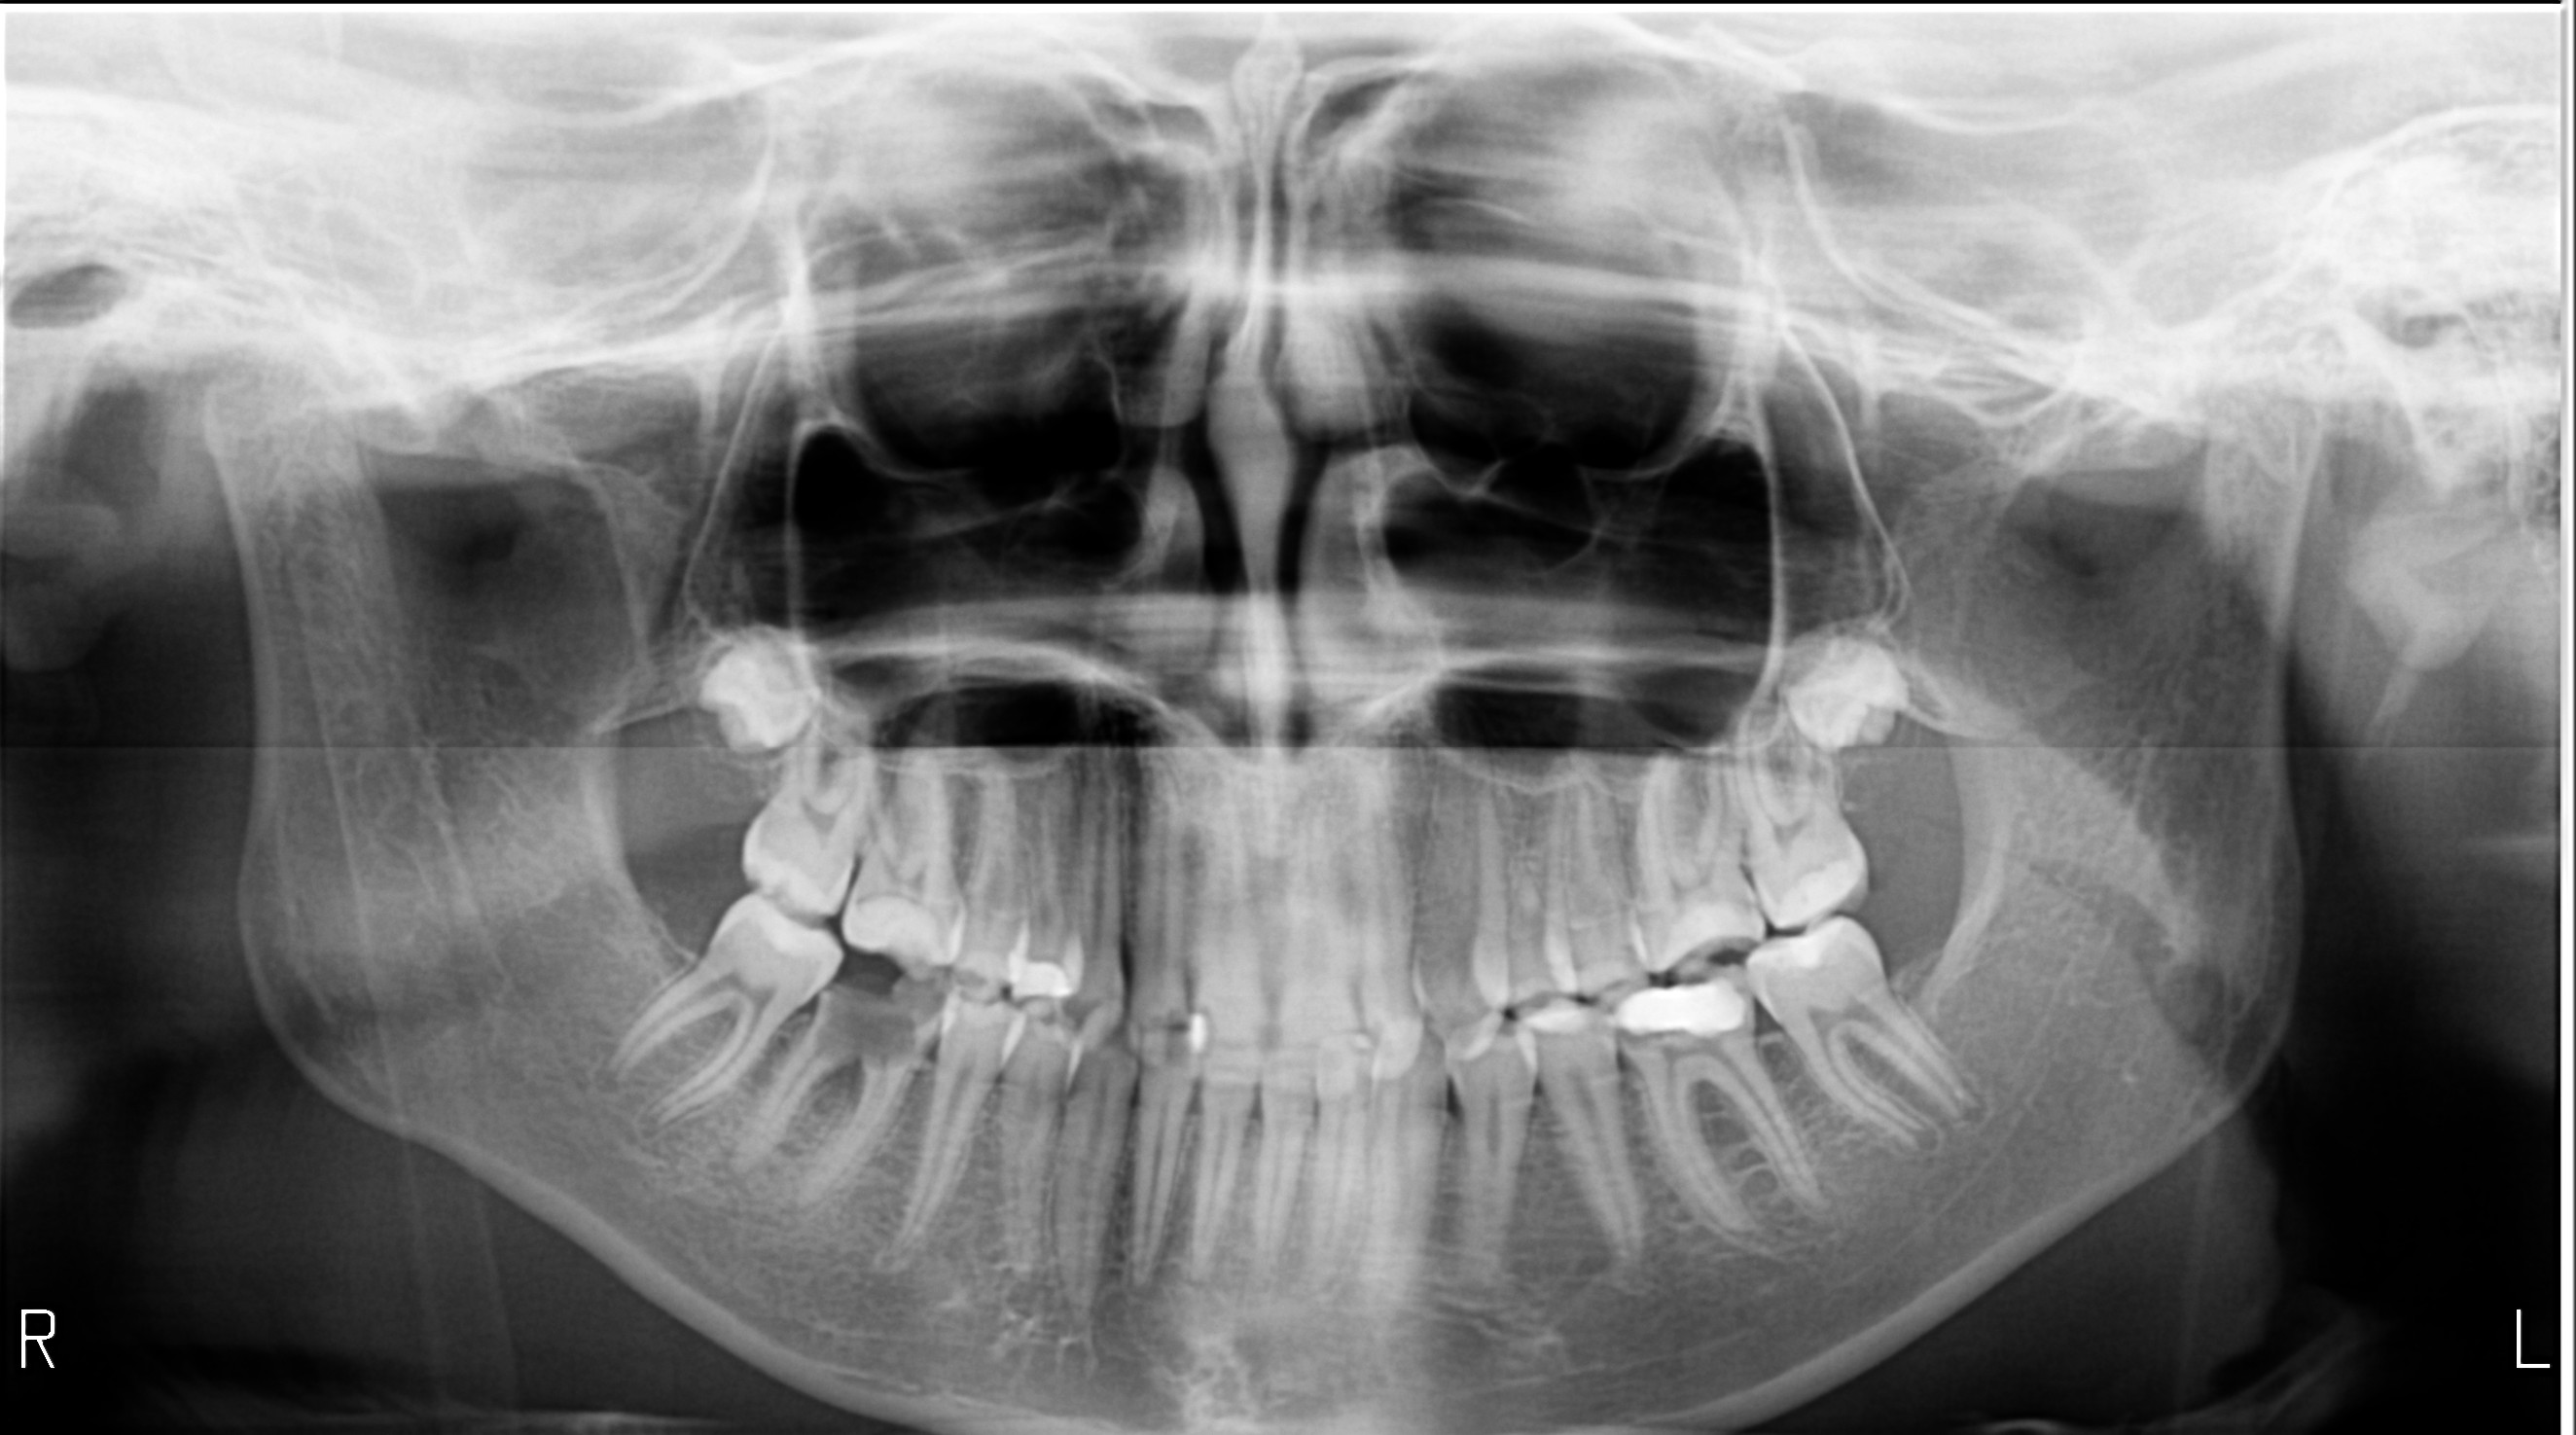API: (680, 1136, 792, 1202)
CAR: (797, 956, 968, 1053), (1592, 1004, 1661, 1067)
FUR: (779, 1030, 903, 1135)
IMT: (670, 608, 853, 785), (1760, 599, 1942, 774)
OBT: (822, 878, 970, 984), (1615, 956, 1777, 1052), (1620, 885, 1760, 974), (1763, 836, 1880, 937), (1756, 907, 1873, 991), (1002, 928, 1097, 1014), (1164, 998, 1230, 1059)
